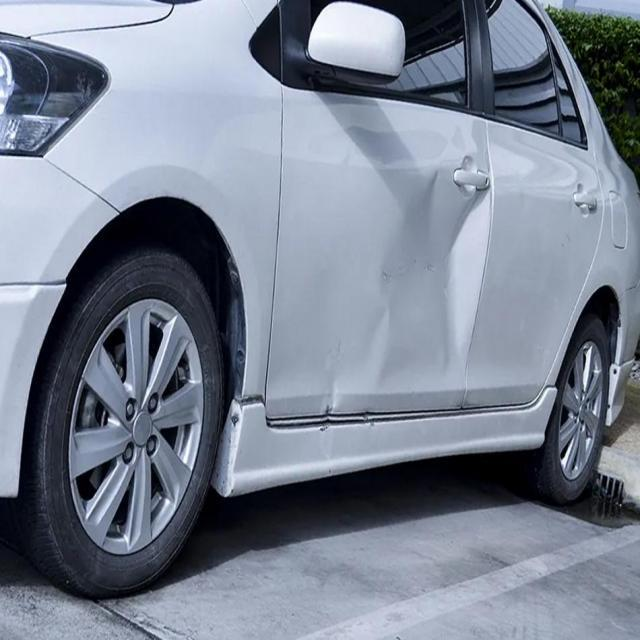dent: (297, 204, 516, 428)
